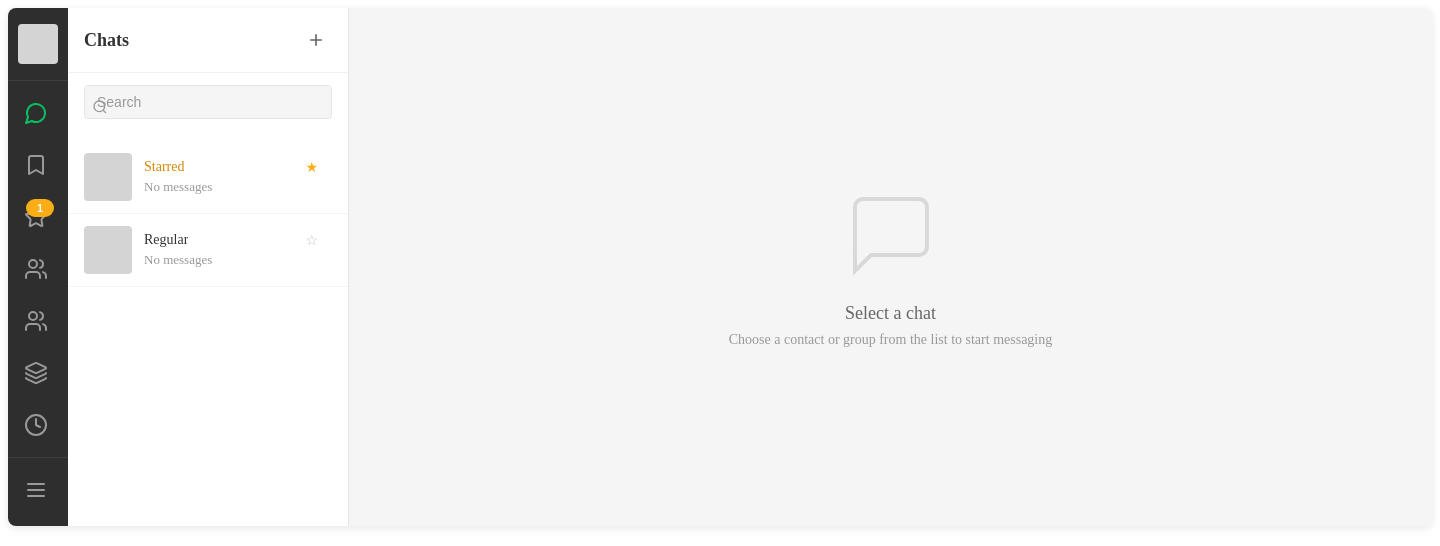
it: ImMessenger favorites › shows only starred contacts in Starred tab
Step 1. Click the button with class "nav-item" showing "1" → (36, 217), box [12,193,60,241]
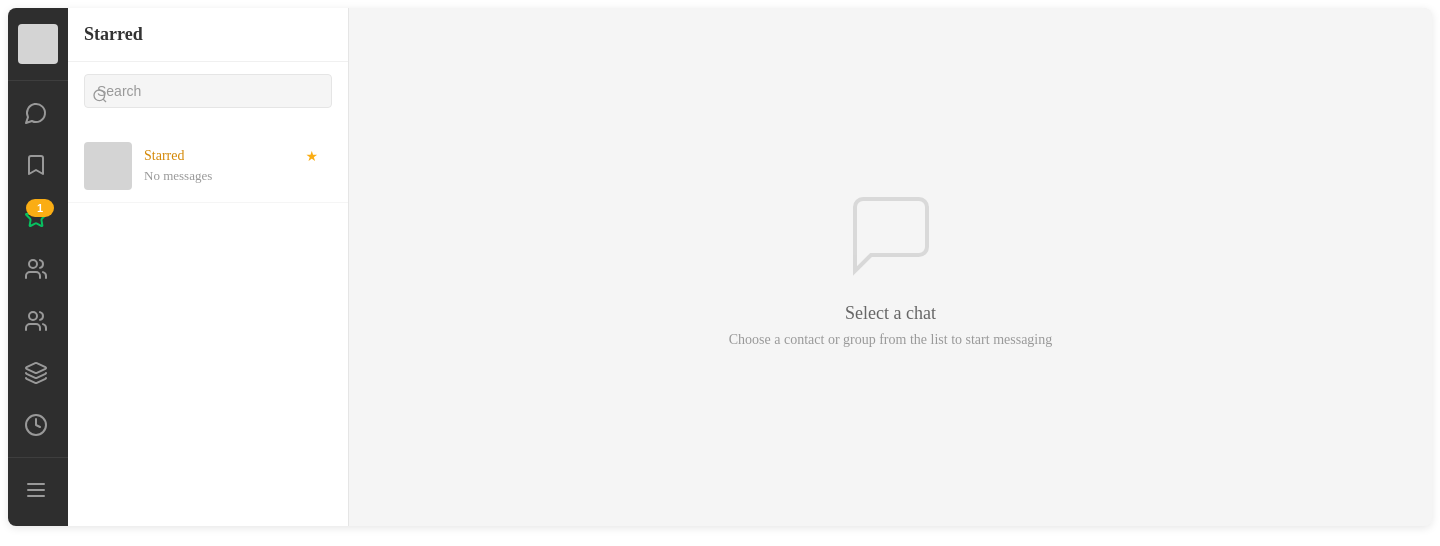
Now the heading with class "sidebar-title" reads "Starred", box [84,24,143,44]
Now the elements with class "chat-name" read "Starred", in this order, box [144,148,184,164]
